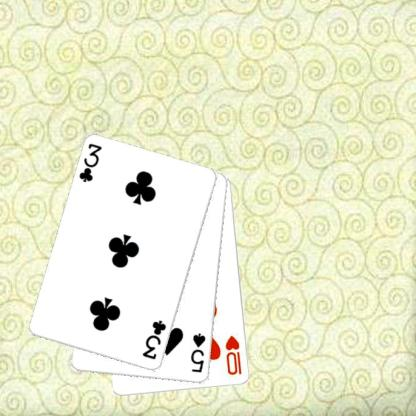10H: (223, 333, 243, 377)
3C: (140, 318, 167, 361), (76, 141, 103, 184)
5S: (188, 331, 207, 374)
